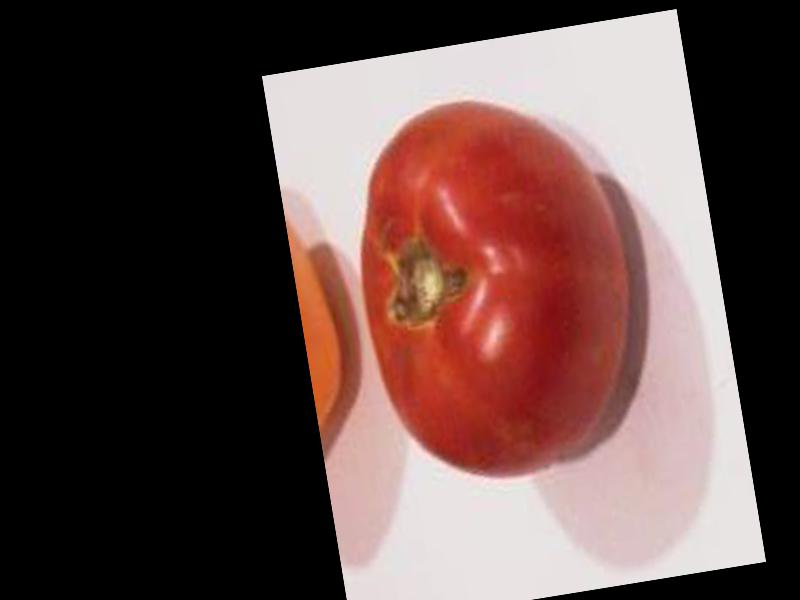Tomato: (337, 80, 652, 491)
